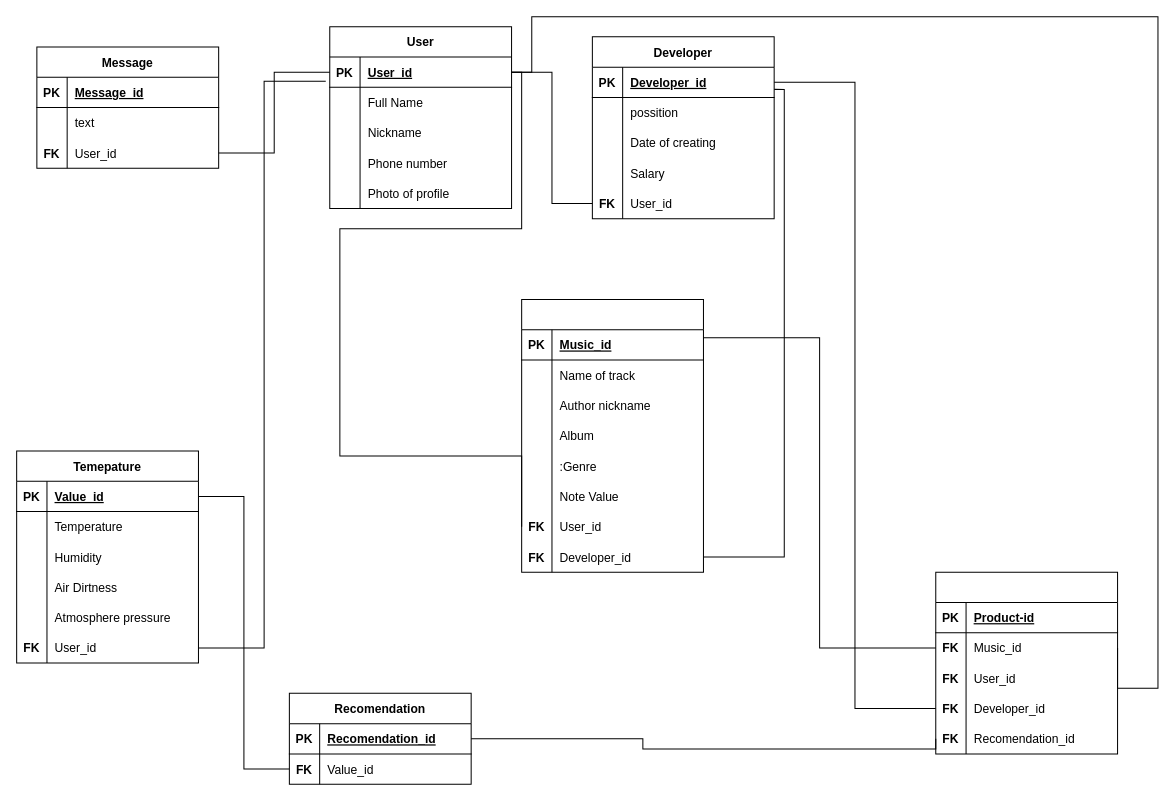
The diagram is 1175 pixels wide and 801 high, and some of its shapes have lost their labels. Each missing label, with the box of its shape:
Adding: (521, 298, 703, 572)
Final Product: (935, 571, 1118, 754)
